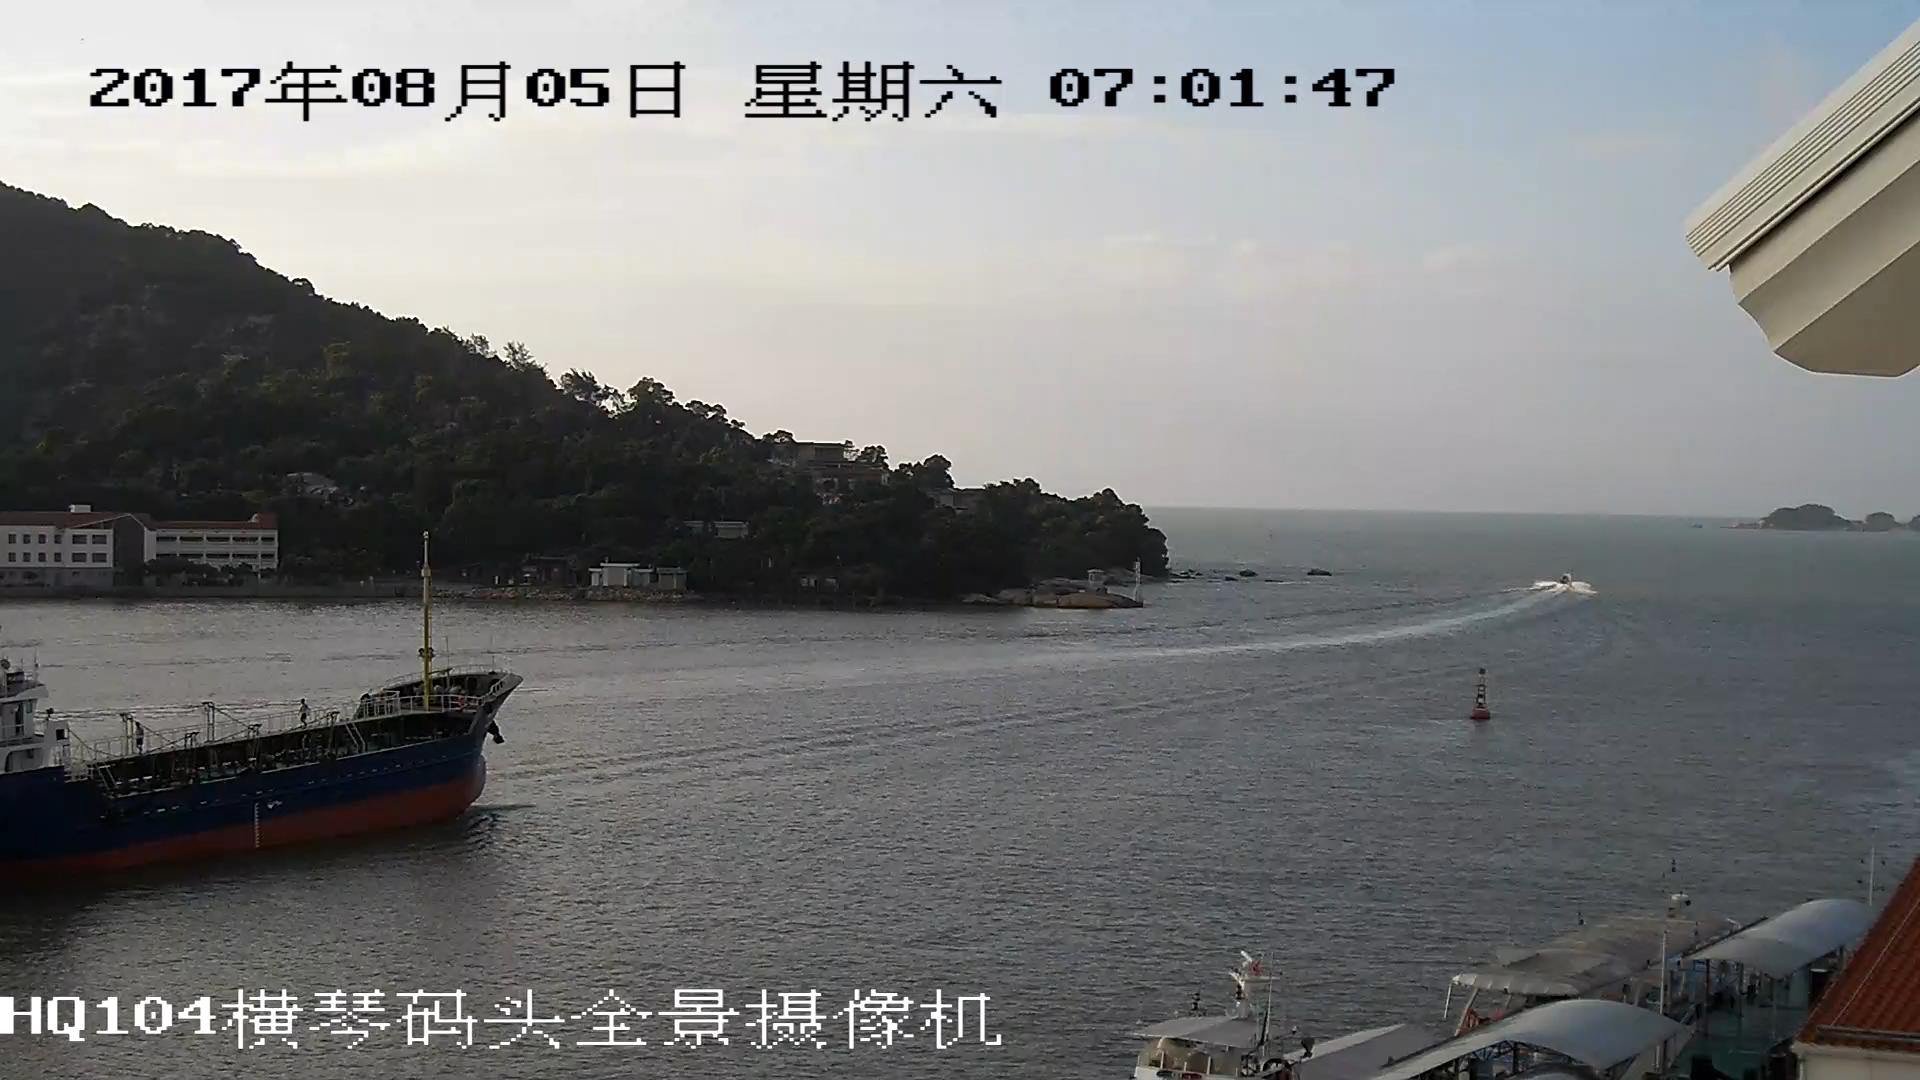general cargo ship: (1, 524, 529, 903)
